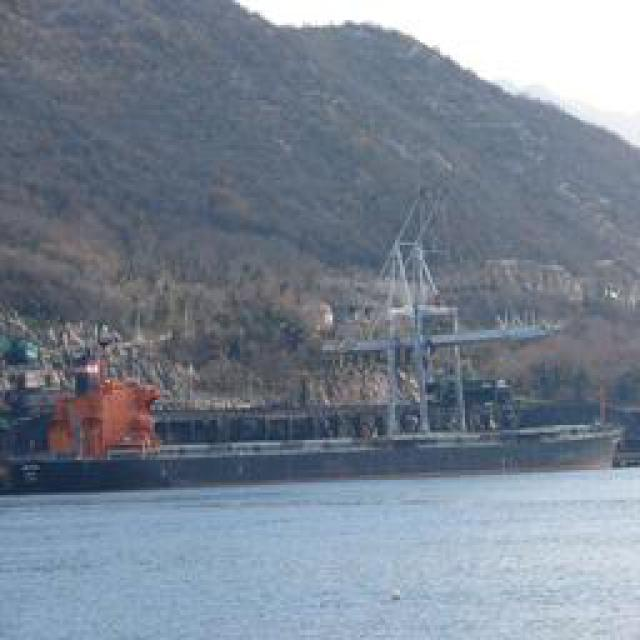Ship: (21, 411, 624, 479)
